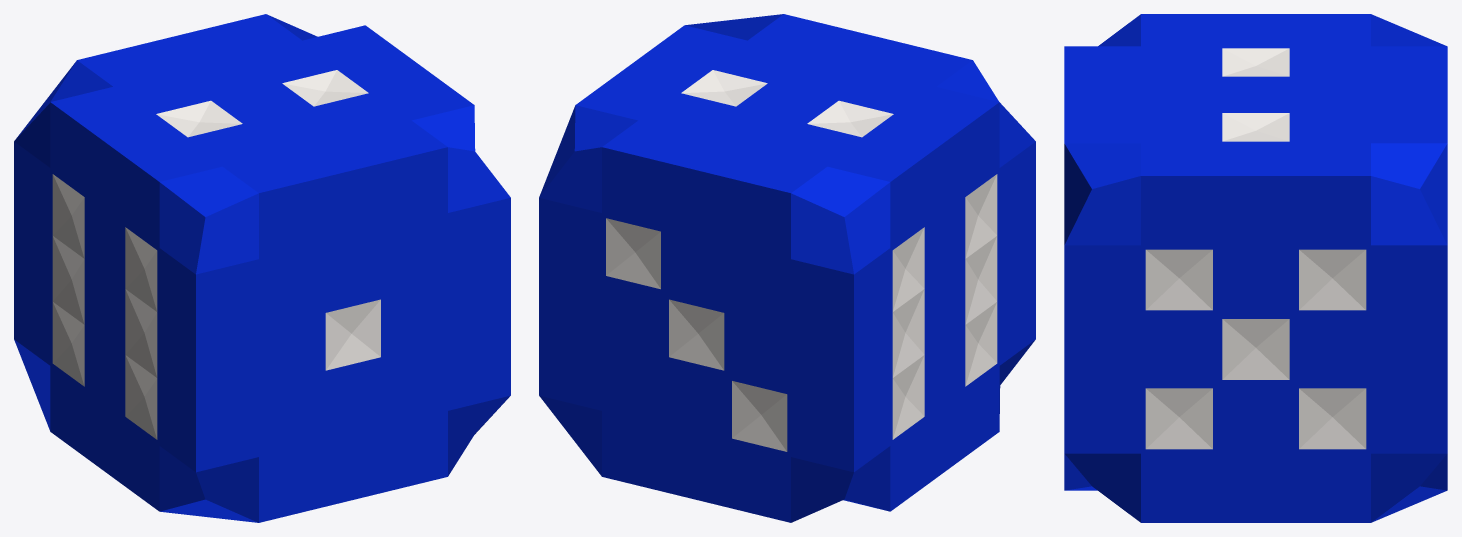
3 renders of one model, left to right at view 1: azimuth 30°, elevation 25°; view 2: azimuth 150°, elevation 25°; view 3: azimuth 270°, elevation 25°, orthographic. The views are drawn at different scales.
Visible parts, largest first — view 1: Cube; view 2: Cube; view 3: Cube.
Boxes of the visible parts, x1=… form: Cube: x1=14, y1=14, x2=510, y2=522; Cube: x1=539, y1=14, x2=1035, y2=522; Cube: x1=1064, y1=14, x2=1447, y2=522.
Bounding box in the file's own units: 2 × 2 × 2.
